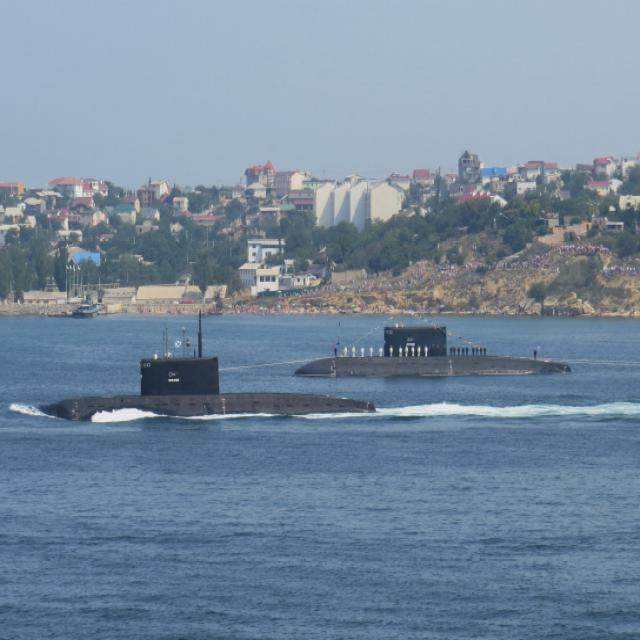submarine: (32, 306, 379, 424), (289, 320, 582, 377)
